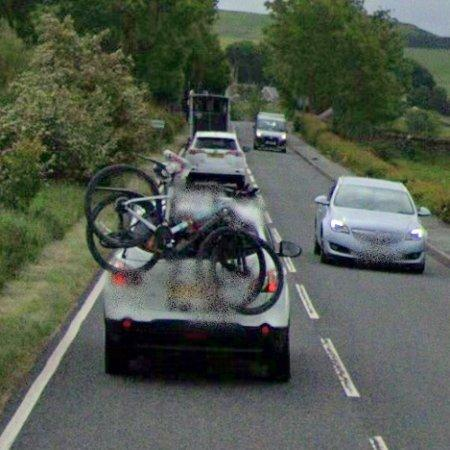bicycles: (85, 162, 302, 315)
